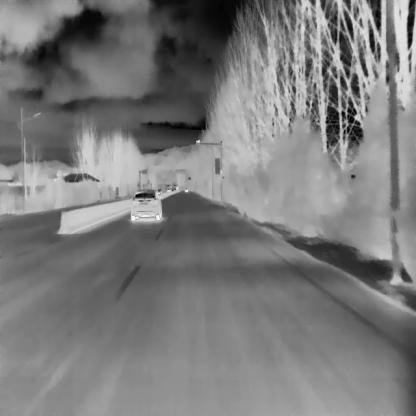car: (131, 189, 161, 220)
